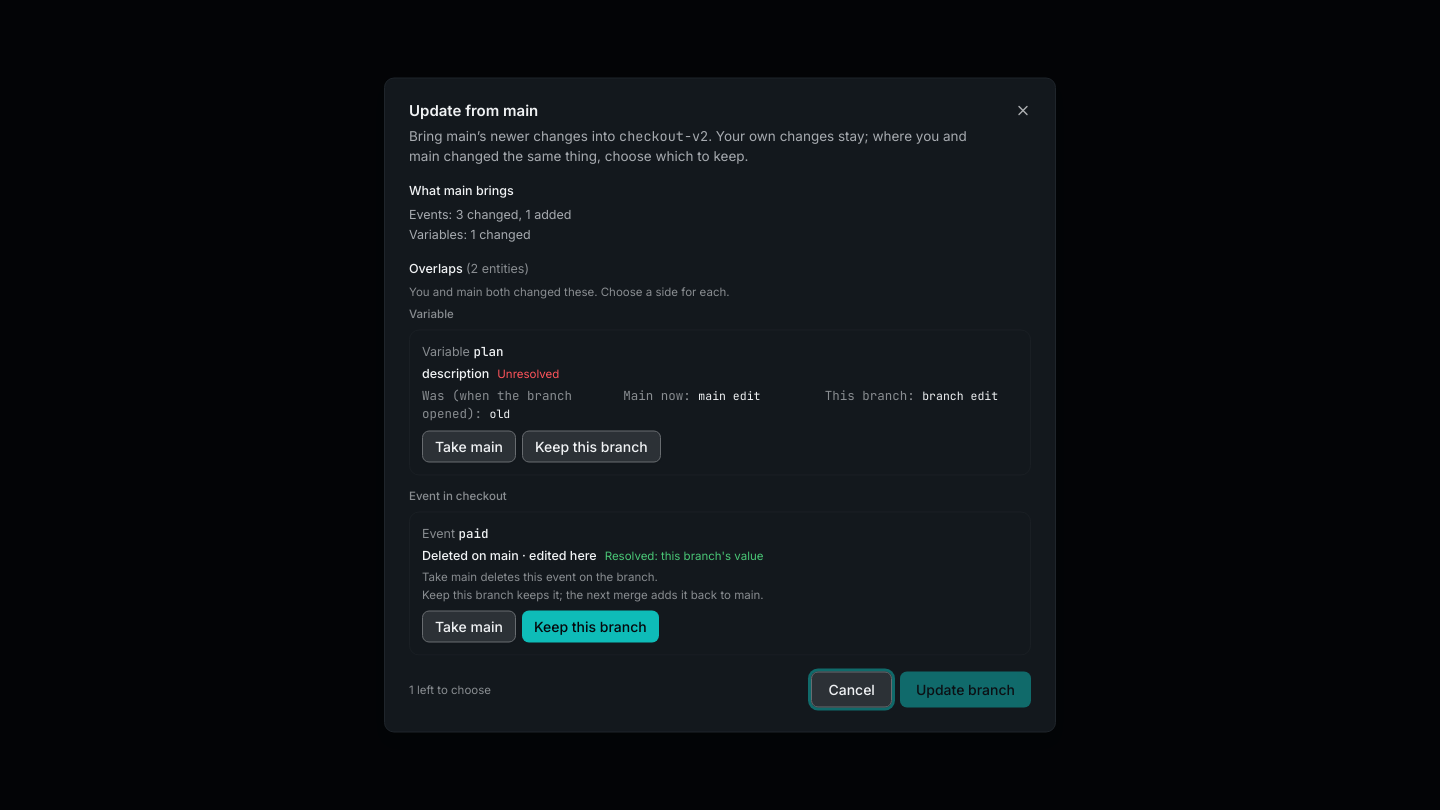
UpdateFromMainDialog › asks again for every pick once main moved, and refreshes the header
expect the list item "Events: 3 changed, 1 added" is shown: met, box top-left (409, 206), bottom-right (571, 222)
Click the button "Take main" below "old" at point(469, 446), box top-left (422, 430), bottom-right (516, 462)
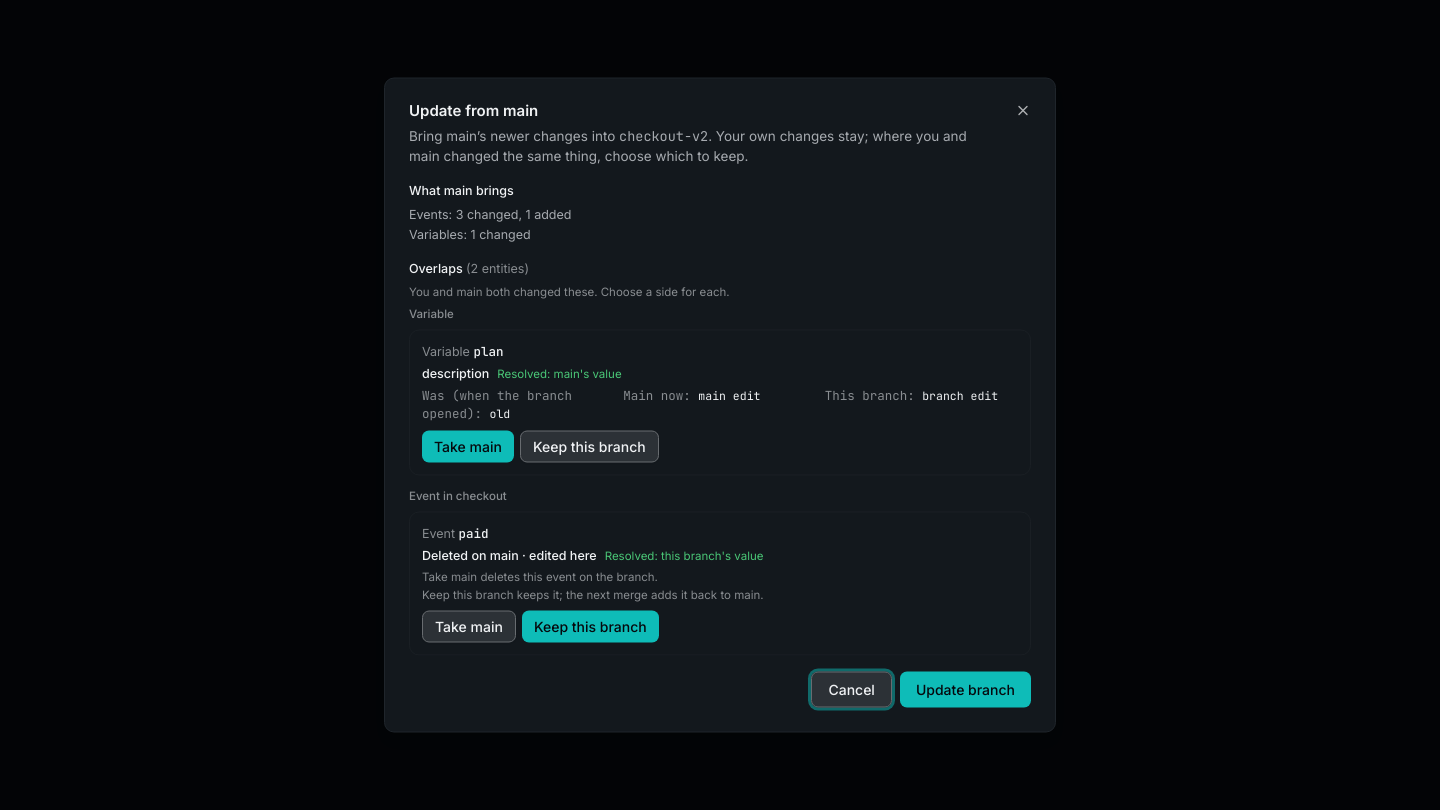
expect the button "Update branch" is enabled: met
Click the button "Update branch" at point(965, 690), box top-left (900, 672), bottom-right (1031, 708)
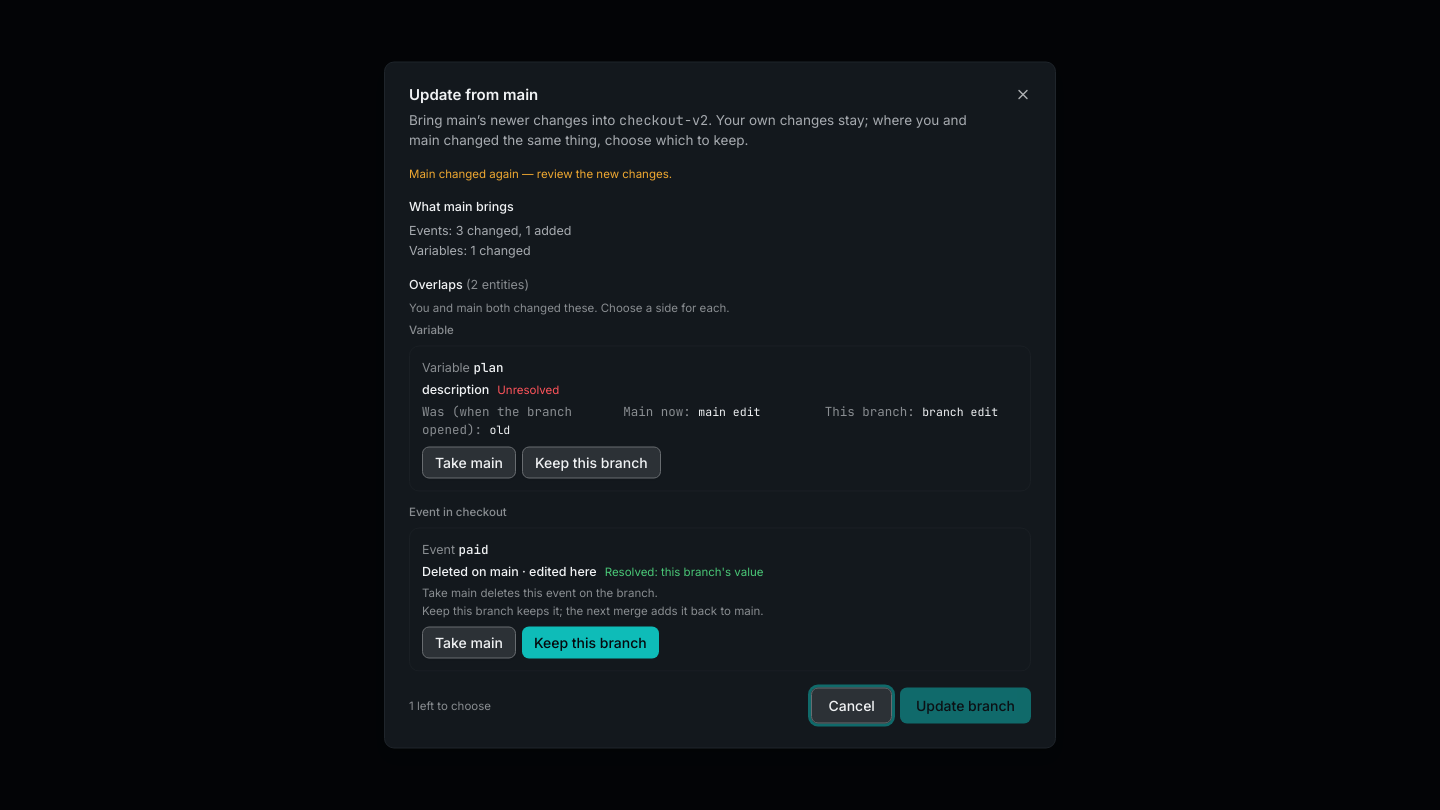
expect the text "Main changed again — review the new changes." is shown: met, box top-left (409, 166), bottom-right (672, 180)
expect the text "1 left to choose" is shown: met, box top-left (409, 698), bottom-right (491, 714)
expect the button "Update branch" is disabled: met, box top-left (900, 688), bottom-right (1031, 724)
